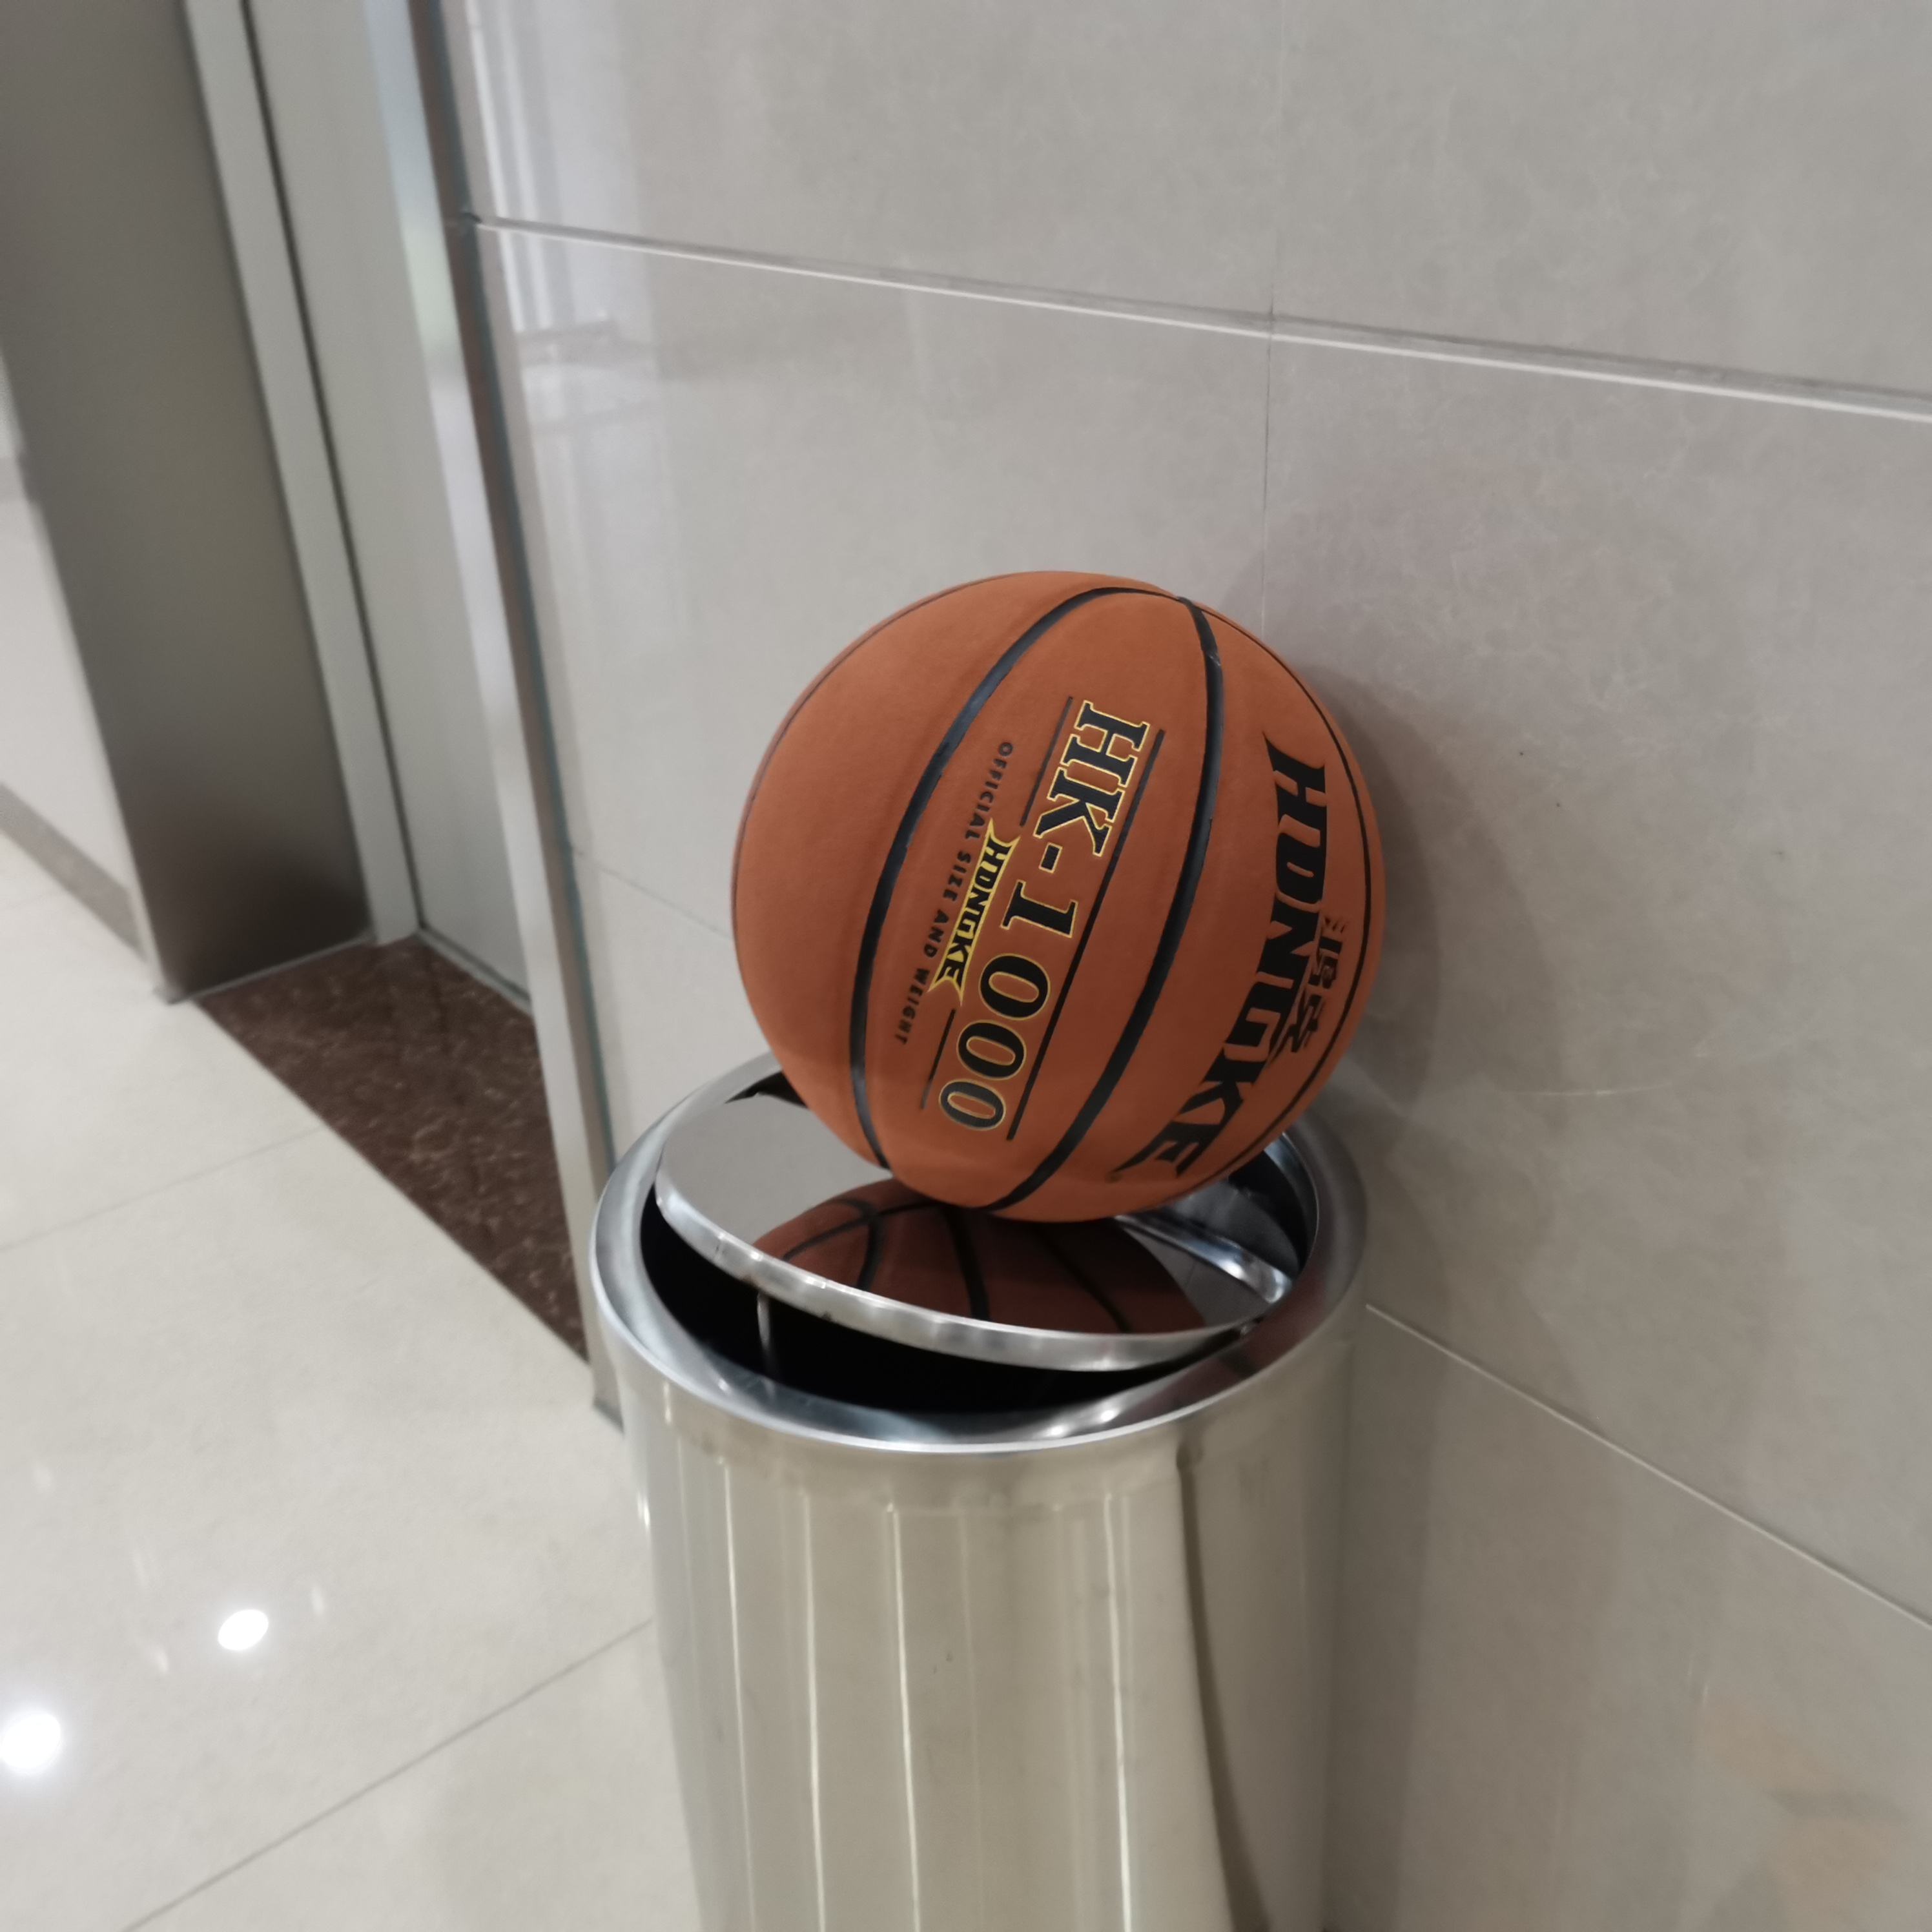basketball: (732, 577, 1373, 1224)
